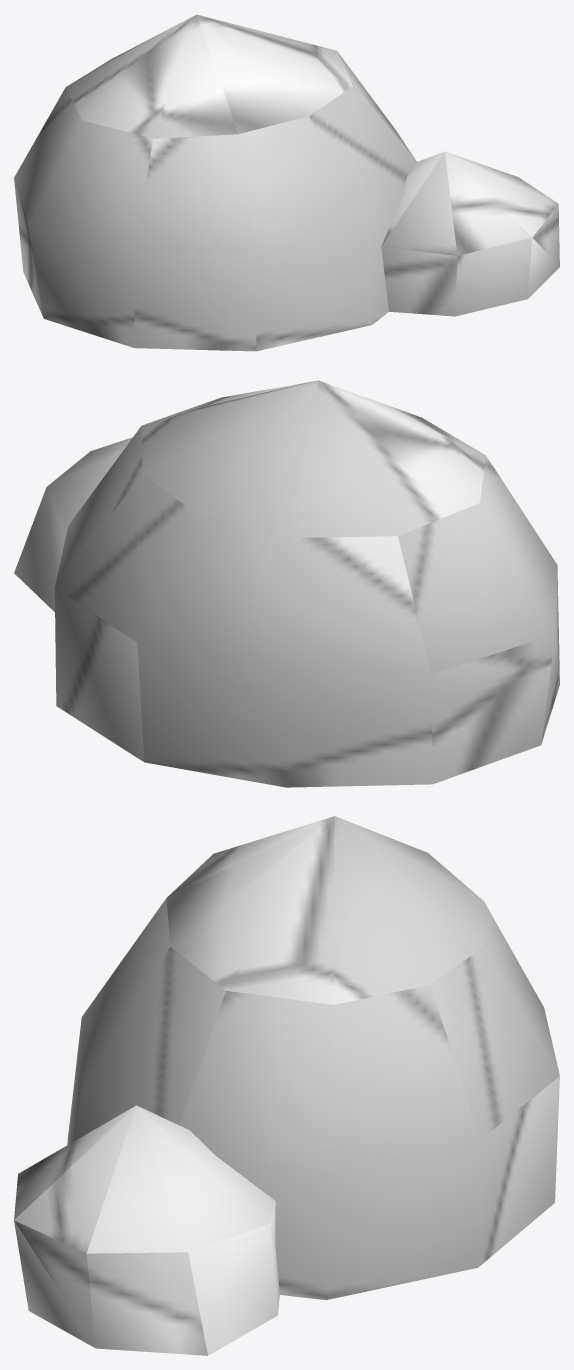
Rendered from boulder_4.obj.
The picture shows the model from 3 angles, top to bottom: view 1: azimuth 30°, elevation 25°; view 2: azimuth 150°, elevation 25°; view 3: azimuth 270°, elevation 25°; orthographic projection. The views are drawn at different scales.
Visible parts, largest first — view 1: part_000_stuff_rock, part_035_stuff_rock; view 2: part_000_stuff_rock, part_035_stuff_rock; view 3: part_000_stuff_rock, part_035_stuff_rock.
Boxes of the visible parts, x1,y1,x2,y2 form: part_000_stuff_rock: [14, 14, 416, 351]; part_035_stuff_rock: [381, 151, 559, 316]; part_000_stuff_rock: [54, 380, 559, 787]; part_035_stuff_rock: [14, 437, 132, 611]; part_000_stuff_rock: [67, 816, 559, 1300]; part_035_stuff_rock: [14, 1105, 279, 1355].
Size of the model in its own units: 0.7494 by 0.3954 by 0.5606.
